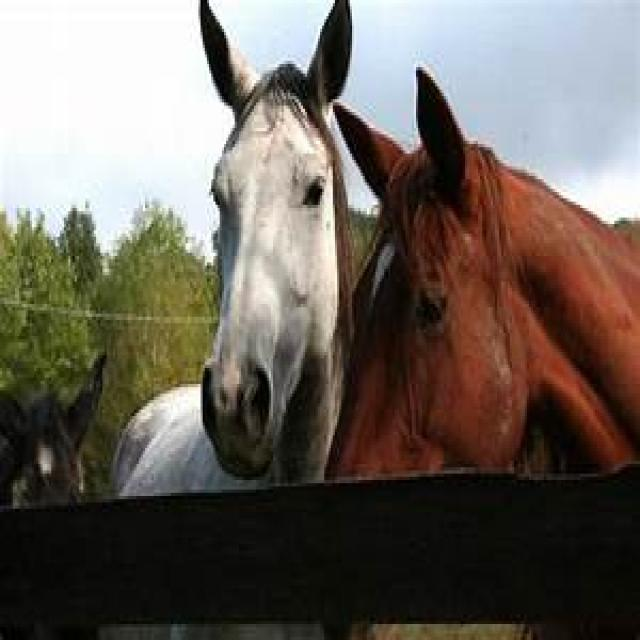horse: (328, 68, 640, 477), (116, 0, 351, 496)
